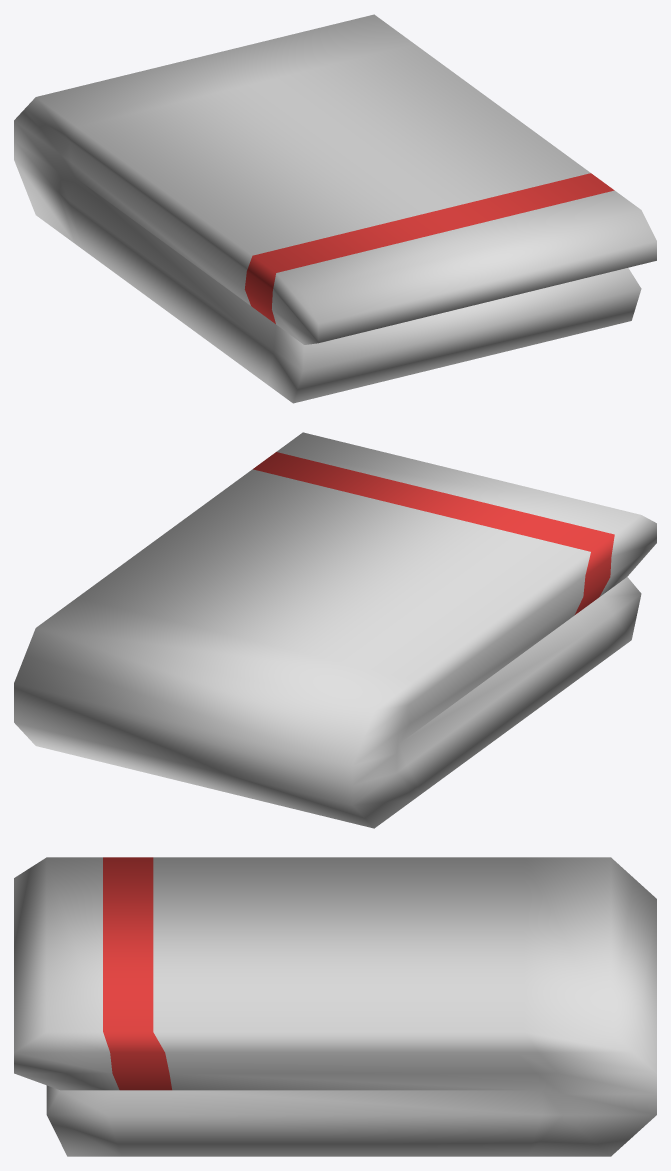
The model's file is Towel.fbx.
3 renders of one model, top to bottom at view 1: azimuth 30°, elevation 25°; view 2: azimuth 150°, elevation 25°; view 3: azimuth 270°, elevation 25°, orthographic. The views are drawn at different scales.
Visible parts, largest first — view 1: Towel; view 2: Towel; view 3: Towel.
Part boxes in pixels (x1,y1,x2,y2): Towel: [14, 14, 656, 403]; Towel: [14, 432, 656, 828]; Towel: [14, 857, 656, 1156].
Size of the model in its own units: 50.07 by 16.68 by 77.97.
